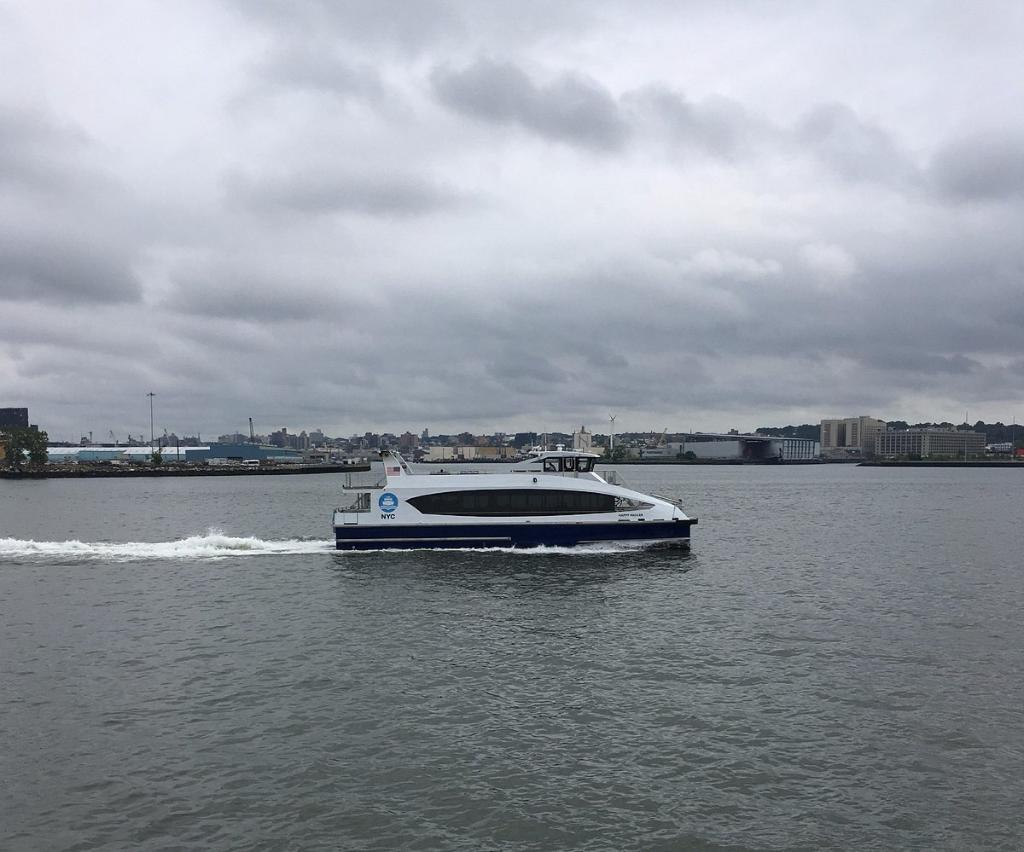PassengerShip: (323, 411, 703, 563)
